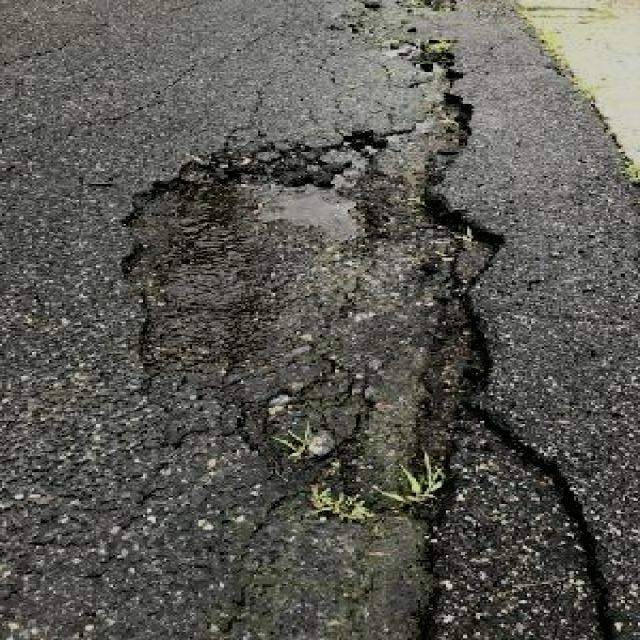Pothole: (115, 46, 514, 523)
